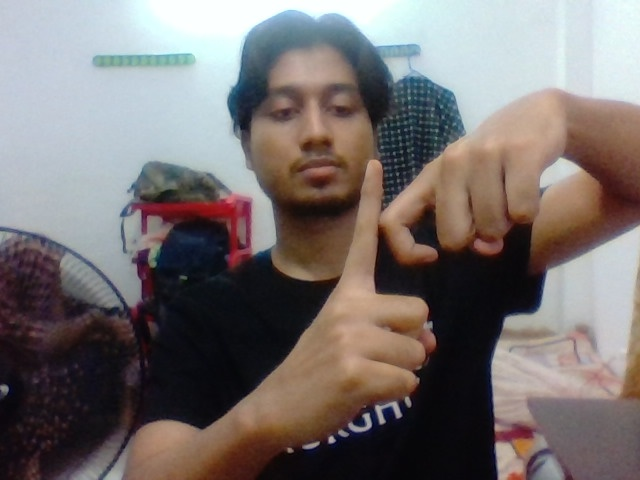K: (311, 143, 463, 386)
